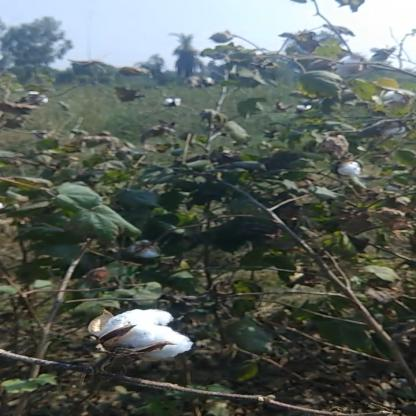cotton_ready: (80, 292, 226, 368)
